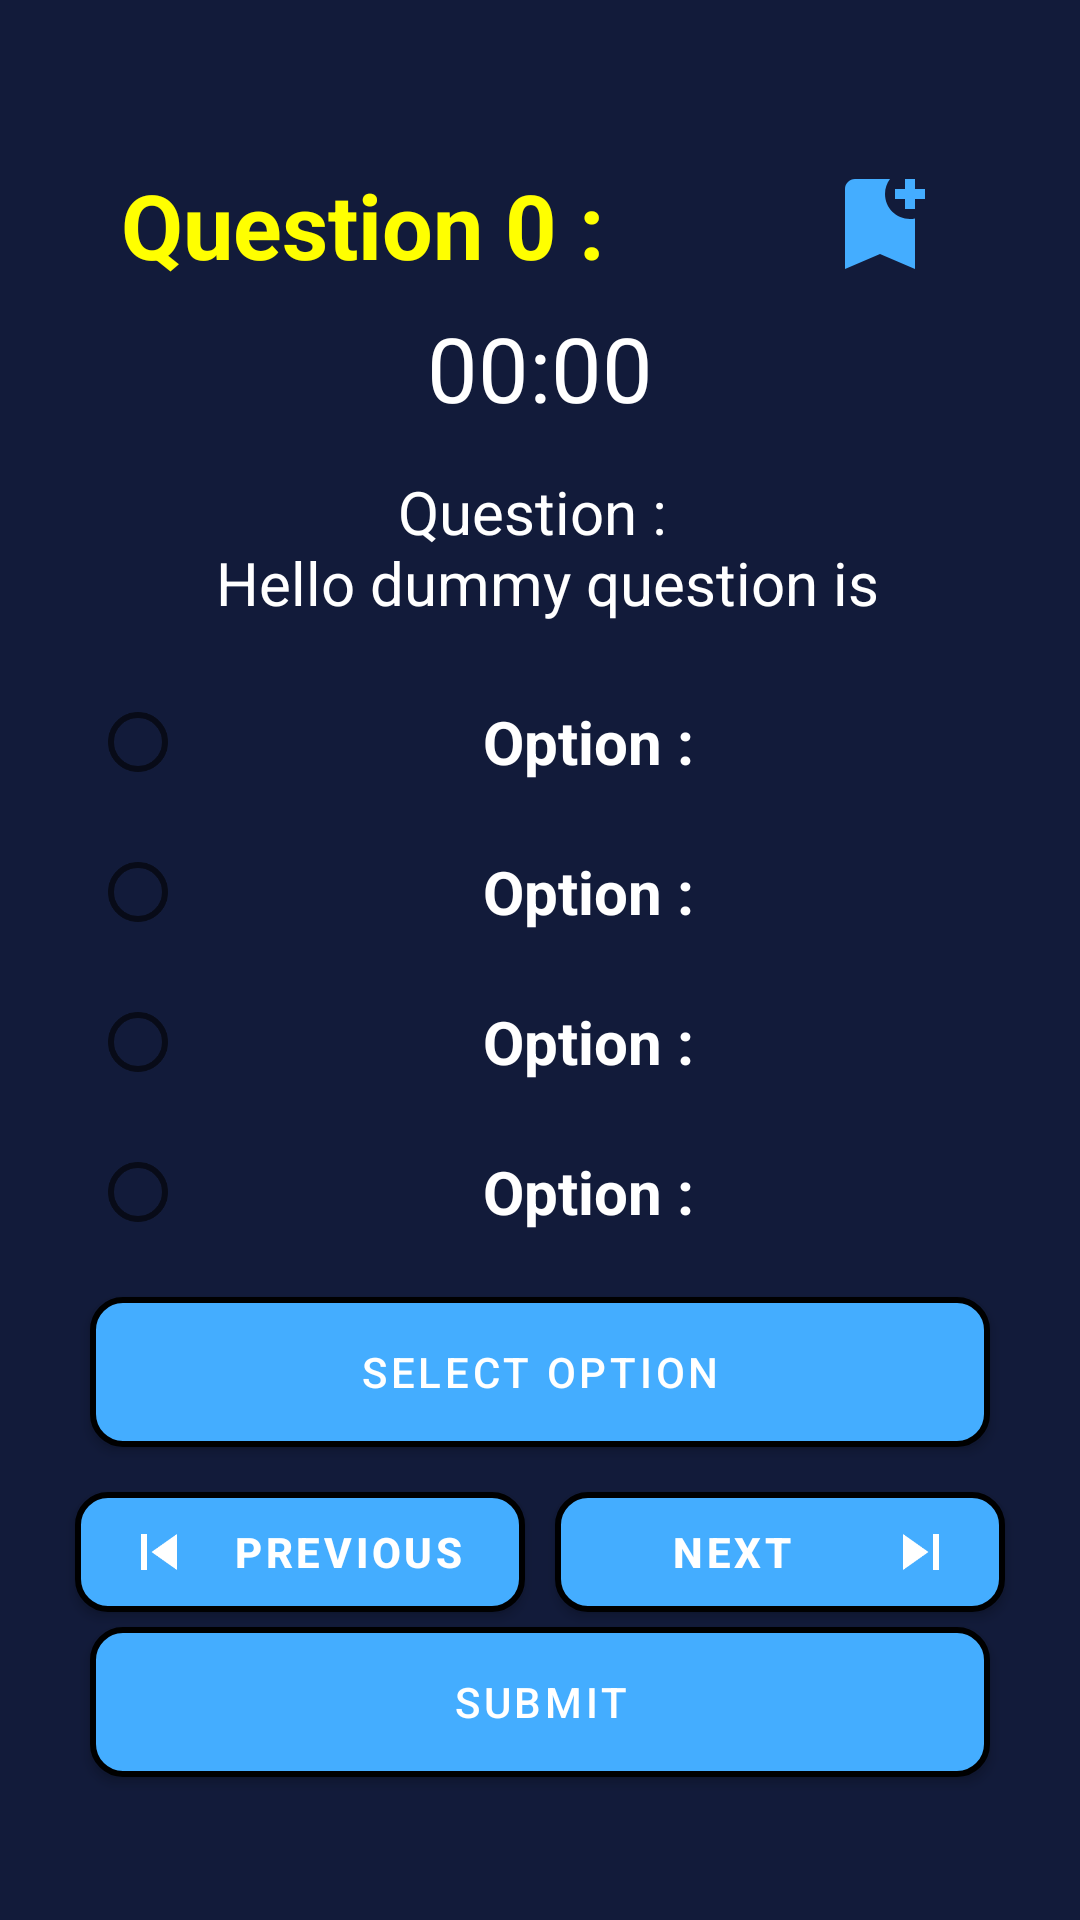

Screen size 1080px×1920px. Icon name, then its box in pixels as (x1,y1,x2,y2):
BookMark Status Button: (845,179,925,269)
